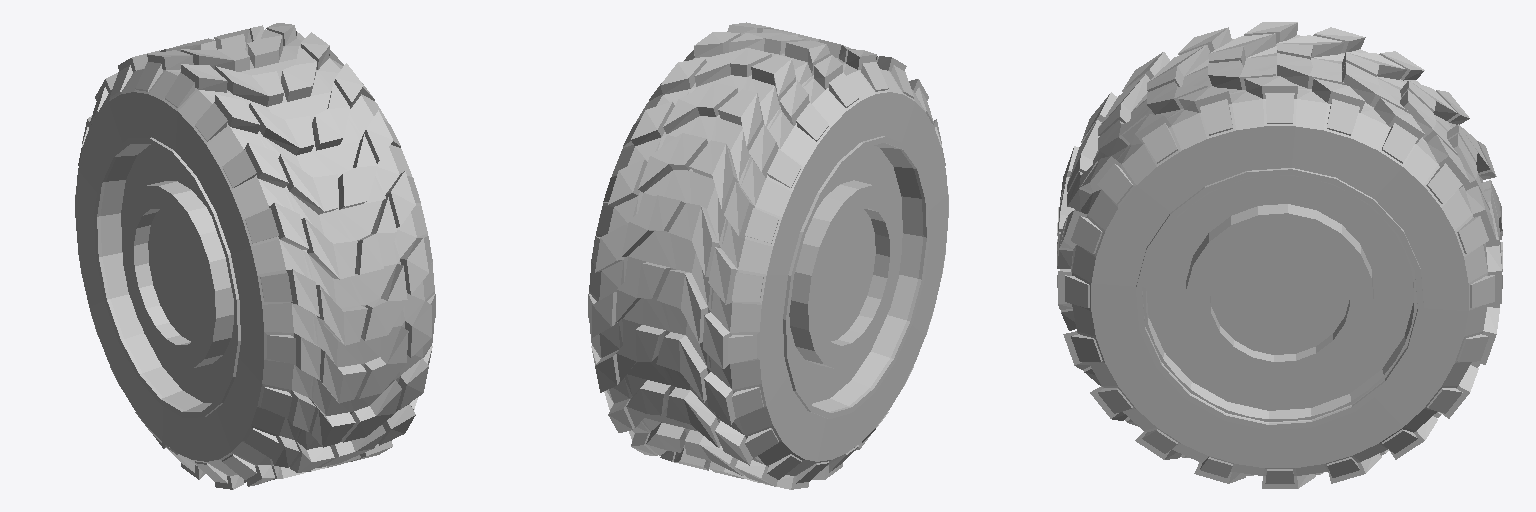
Rendered from Rover_wheel_right.obj.
3 renders of one model, left to right at view 1: azimuth 30°, elevation 25°; view 2: azimuth 150°, elevation 25°; view 3: azimuth 270°, elevation 25°, orthographic.
Parts seen in each view (by area): view 1: Wheel_front_left.001; view 2: Wheel_front_left.001; view 3: Wheel_front_left.001.
Part boxes in pixels (x1,y1,x2,y2): Wheel_front_left.001: (75,23,435,489); Wheel_front_left.001: (588,22,948,489); Wheel_front_left.001: (1057,22,1502,488).
Size of the model in its own units: 0.5249 by 1.13 by 1.13.